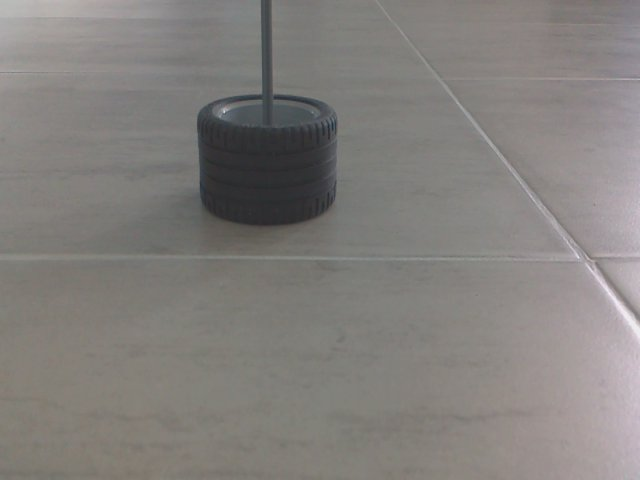Rad+Grau_lang: (195, 4, 340, 228)
